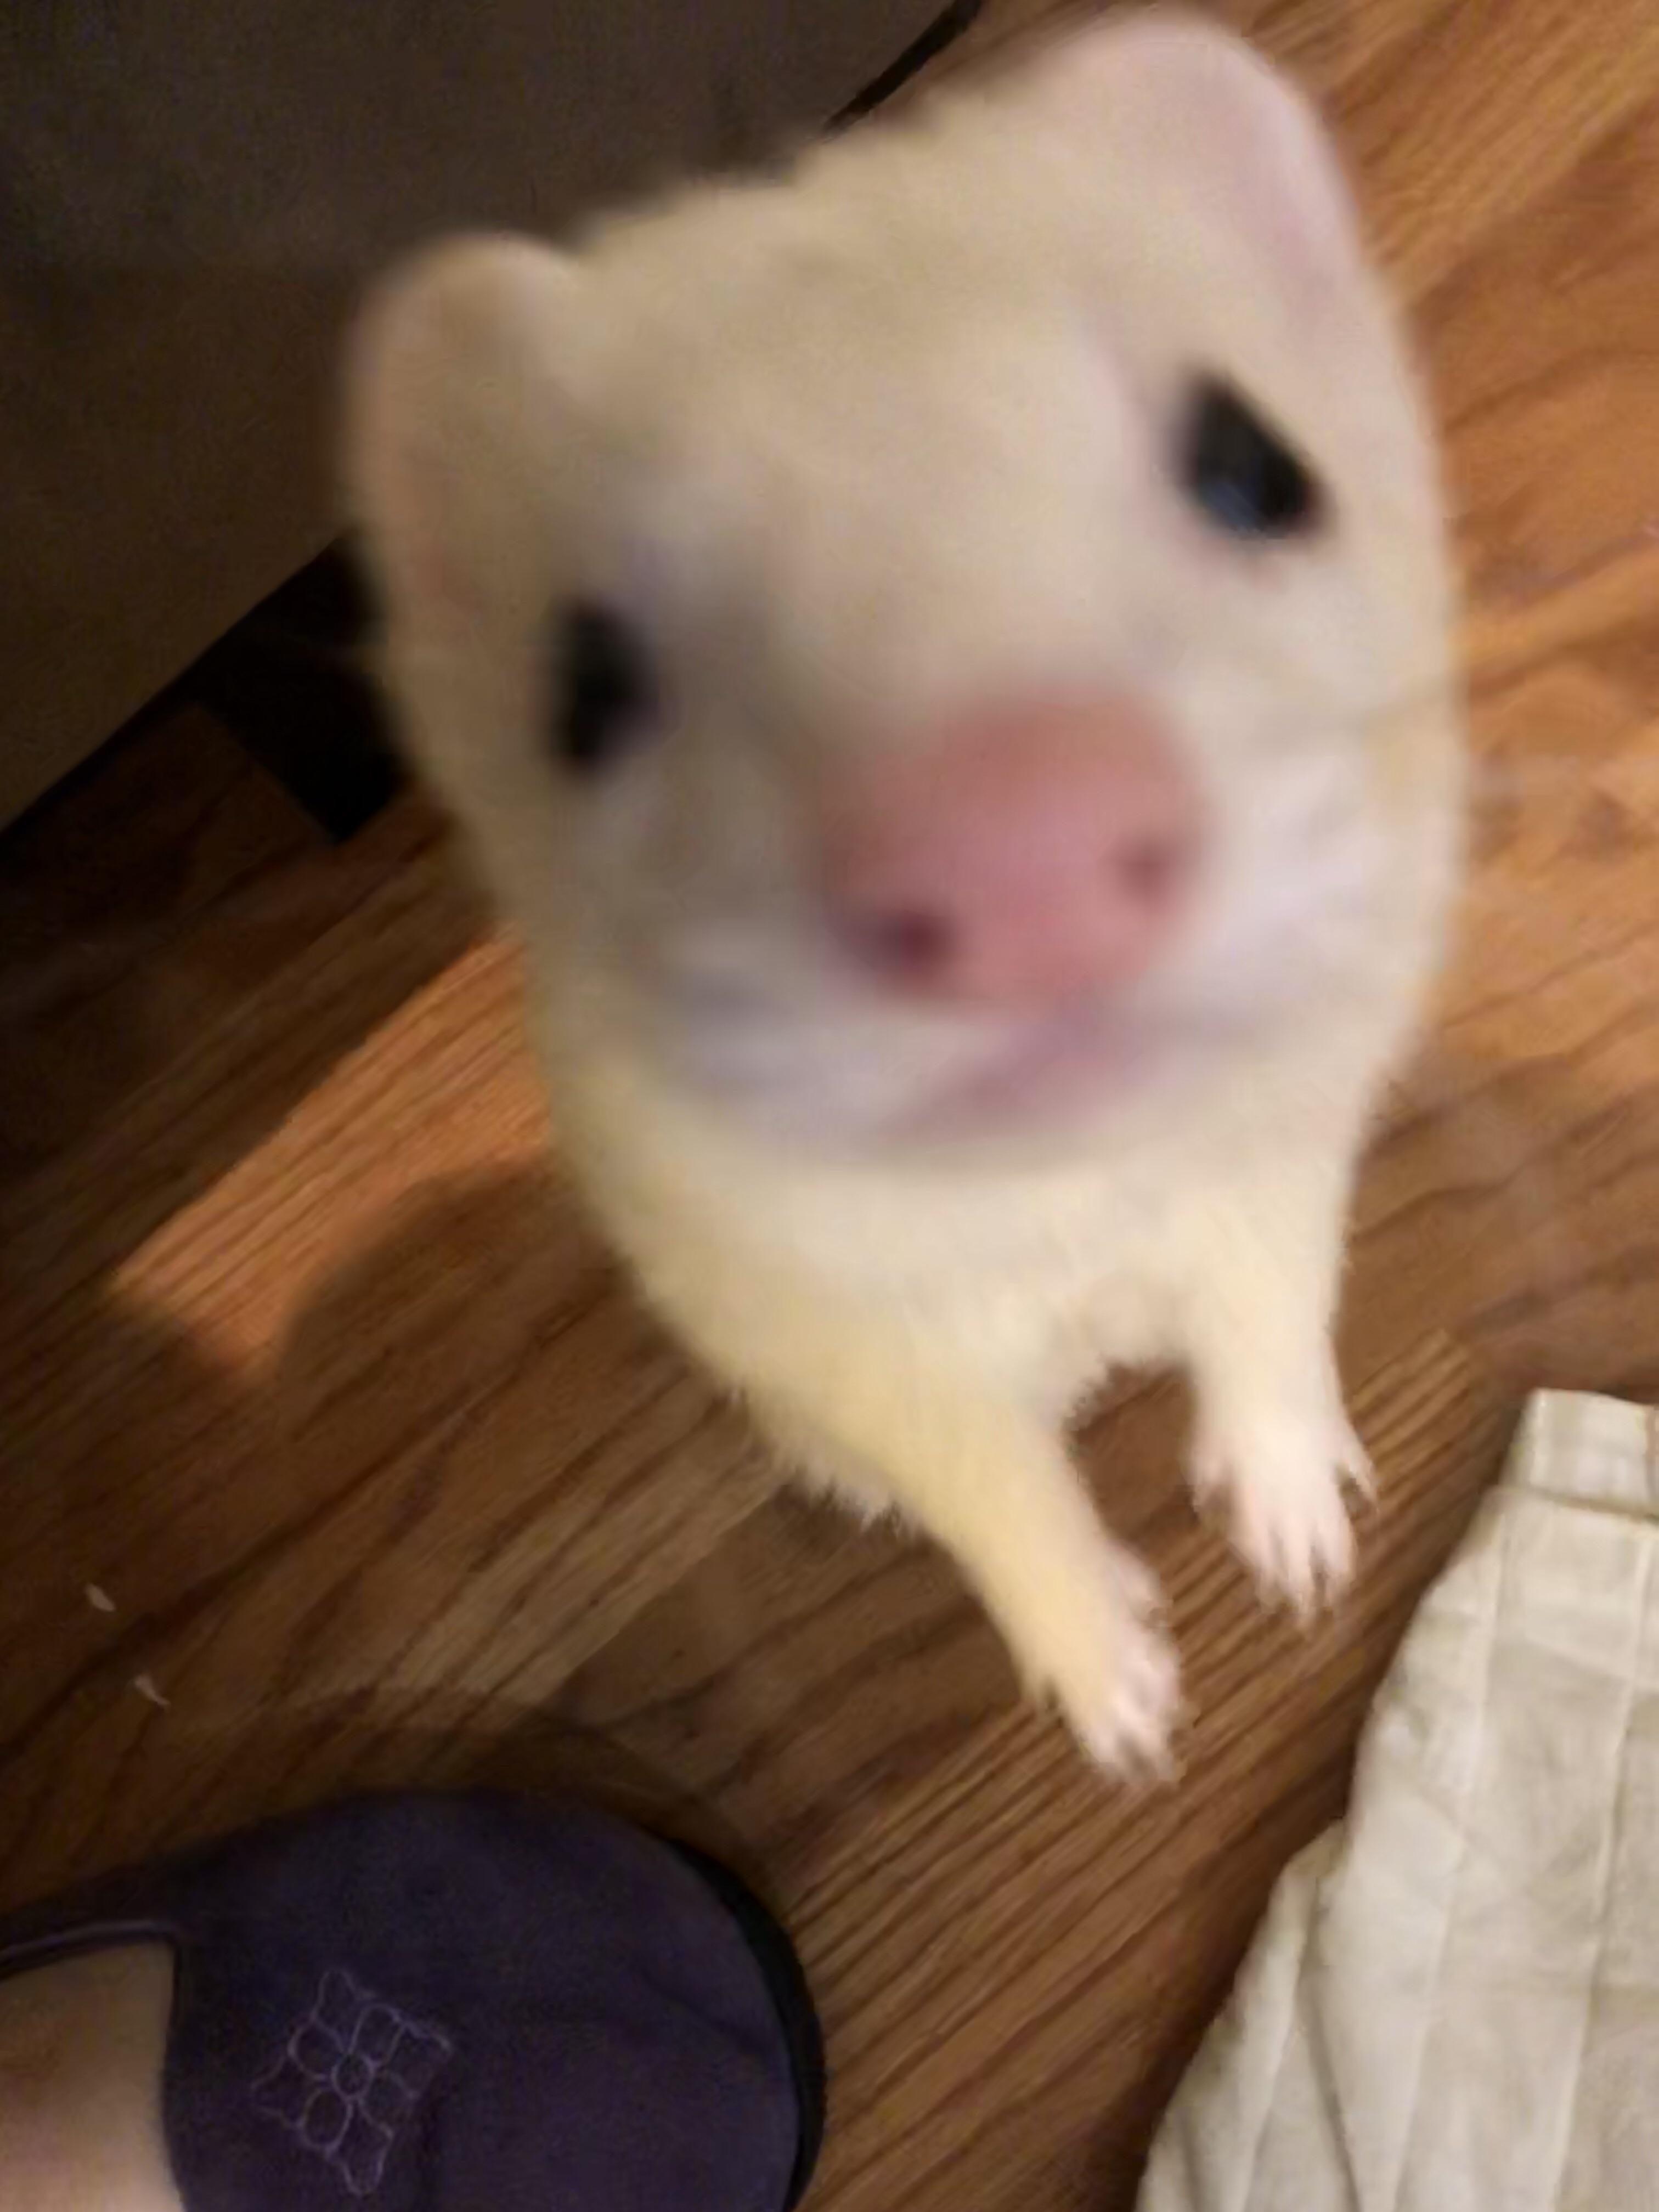Talulah: (350, 2, 1455, 1792)
